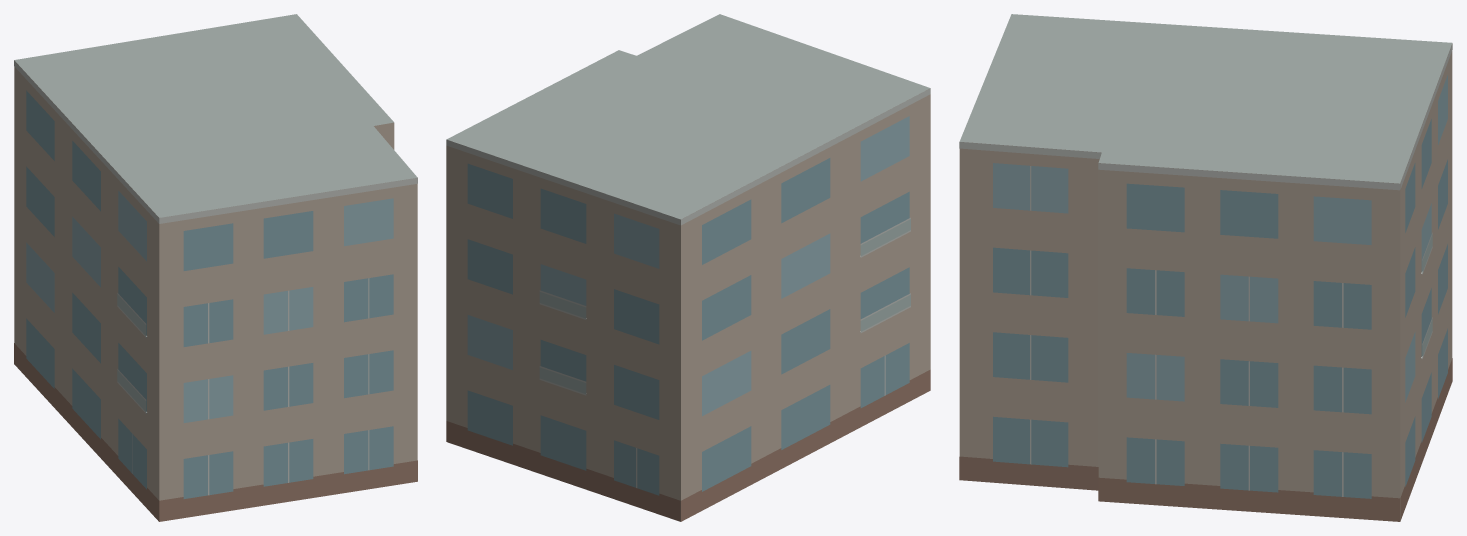
The model's file is survey-upis-32509588.glb.
The picture shows the model from 3 angles, left to right: view 1: azimuth 30°, elevation 25°; view 2: azimuth 150°, elevation 25°; view 3: azimuth 270°, elevation 25°; orthographic projection. The views are drawn at different scales.
Visible parts, largest first — view 1: survey-upis-32509588.tmp; view 2: survey-upis-32509588.tmp; view 3: survey-upis-32509588.tmp.
Boxes of the visible parts, x1,y1,x2,y2 form: survey-upis-32509588.tmp: (14,14,417,521); survey-upis-32509588.tmp: (446,14,930,521); survey-upis-32509588.tmp: (959,14,1452,521).
Size of the model in its own units: 13.12 by 12.2 by 16.12.
